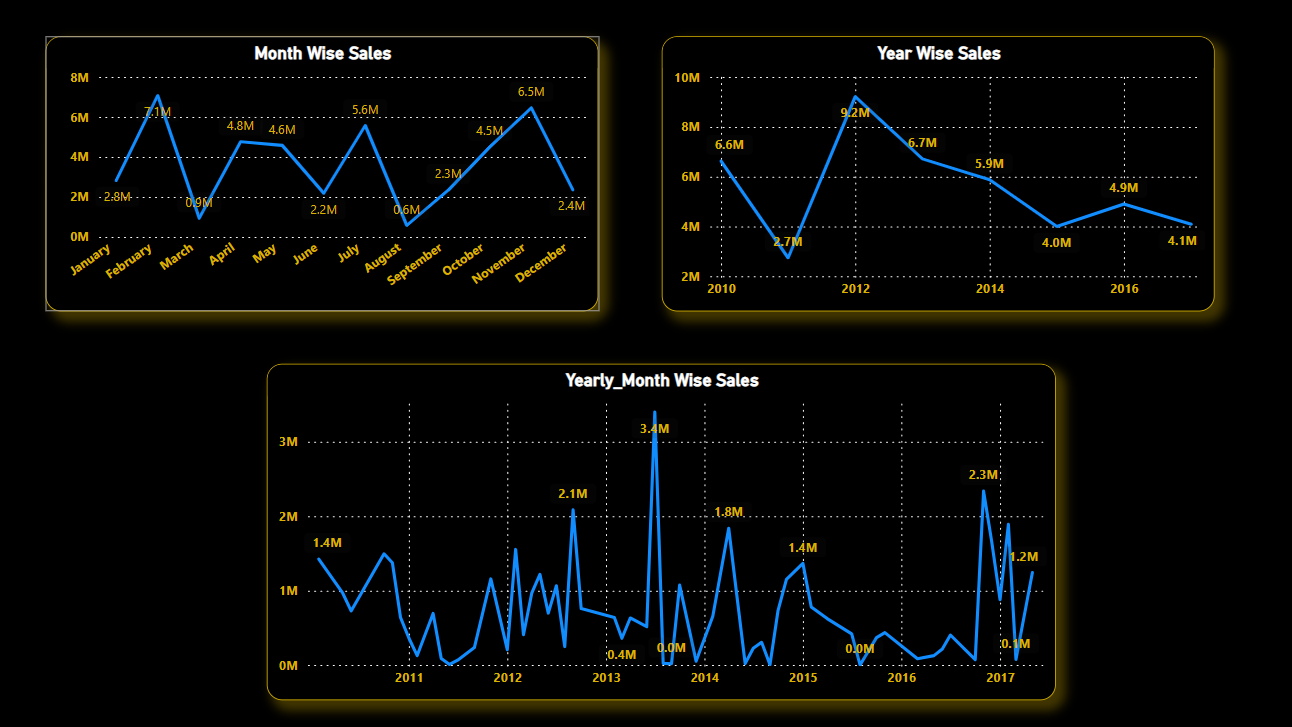

The page's visual inventory and layout, read from the dashboard file:
{"tool":"powerbi","page":{"name":"Page 2","canvas":[1280,720],"ordinal":1},"visuals":[{"type":"lineChart","title":"Month Wise Sales","fields":{"Category":["Amazon Sales data.Order Date.Variation.Date Hierarchy.Month"],"Y":["Sum(Amazon Sales data.Total Profit)"]},"box":[46.2,44.7,533.8,265.5],"z":0},{"type":"lineChart","title":"Year Wise Sales","fields":{"Category":["Amazon Sales data.Order Date.Variation.Date Hierarchy.Year"],"Y":["Sum(Amazon Sales data.Total Profit)"]},"box":[640.6,44.7,533.8,265.5],"z":1000},{"type":"lineChart","title":"Yearly_Month Wise Sales","fields":{"Category":["Amazon Sales data.Order Date.Variation.Date Hierarchy.Year","Amazon Sales data.Order Date.Variation.Date Hierarchy.Month"],"Y":["Sum(Amazon Sales data.Total Profit)"]},"box":[259.7,360.7,761.8,324.6],"z":2000}]}

Visuals, with their boxes in screenshot pixels (x1, y1, x2, y2), scaled from the page's 1280x720 canvas onto the 1292x727 screenshot:
"Month Wise Sales" lineChart: select_region(47, 45, 585, 313)
"Year Wise Sales" lineChart: select_region(647, 45, 1185, 313)
"Yearly_Month Wise Sales" lineChart: select_region(262, 364, 1031, 692)
